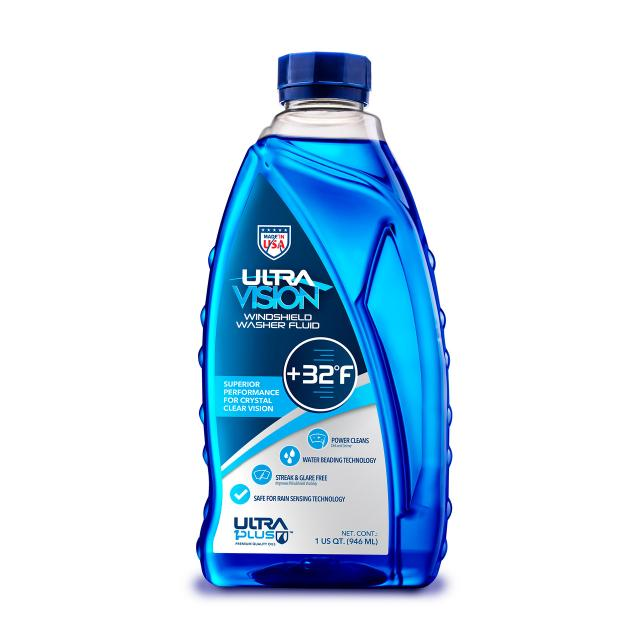winwinshield_washer: (192, 46, 454, 599)
